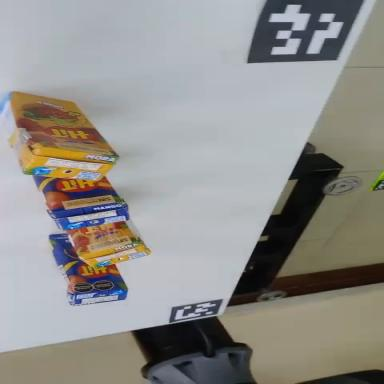HIT-MANGO: (47, 217, 130, 316), (33, 176, 129, 231)
HIT-MORA: (0, 89, 126, 189), (66, 219, 150, 268)
cara_F: (44, 214, 128, 312), (4, 92, 125, 160), (33, 175, 125, 214), (69, 214, 138, 257)
